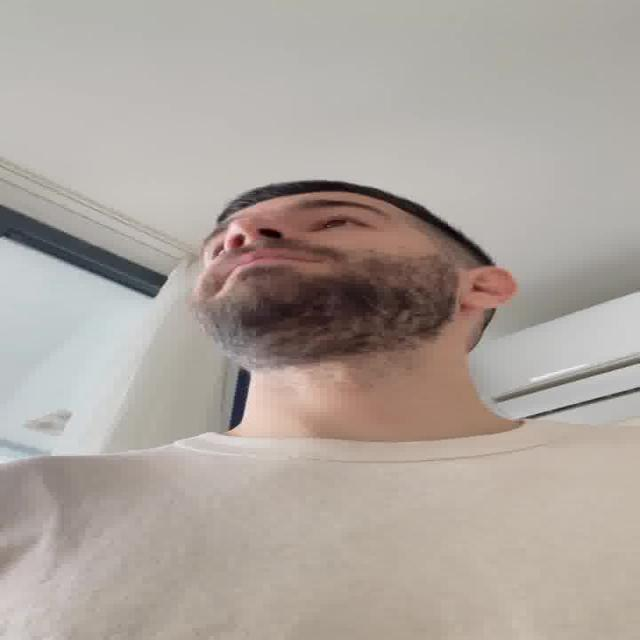earlobe: (458, 265, 520, 311)
